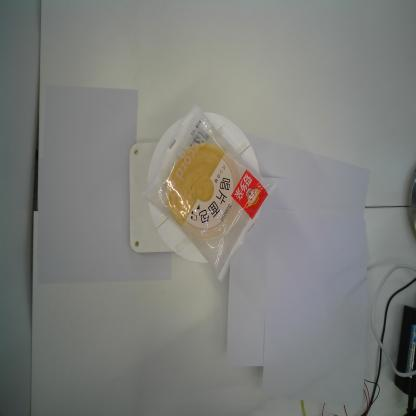Dessert: (138, 101, 278, 283)
